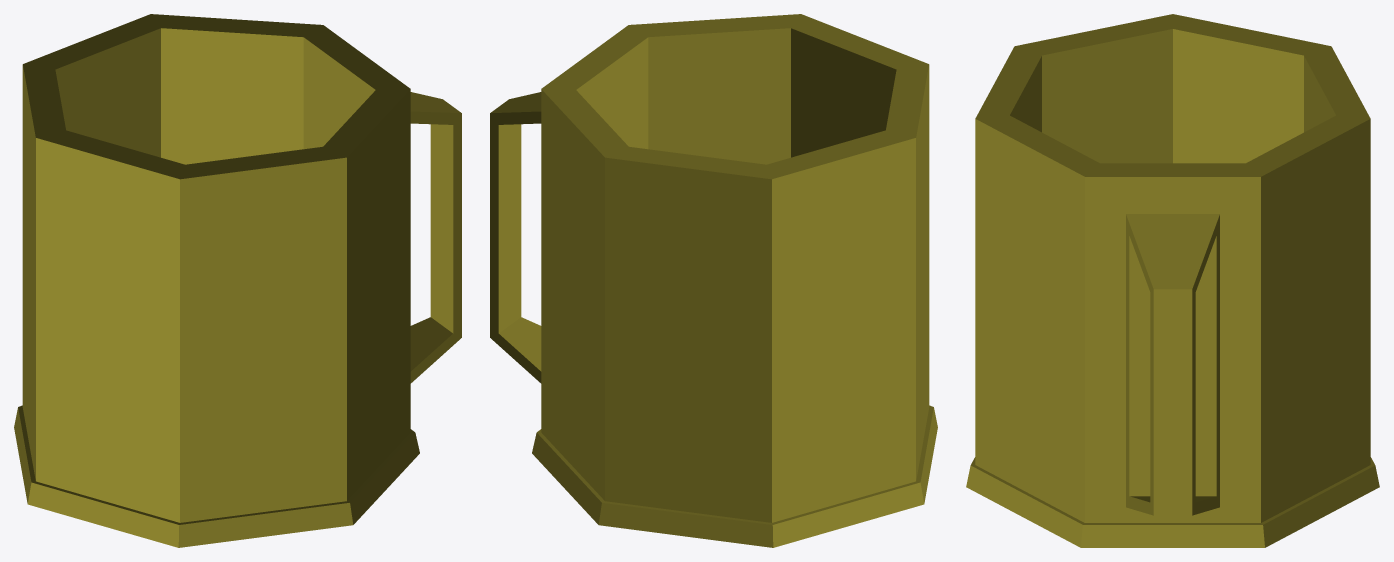
The model's file is Mug 1.fbx.
The picture shows the model from 3 angles, left to right: view 1: azimuth 30°, elevation 25°; view 2: azimuth 150°, elevation 25°; view 3: azimuth 270°, elevation 25°; orthographic projection.
Parts seen in each view (by area): view 1: Node 0; view 2: Node 0; view 3: Node 0.
Boxes of the visible parts, box(x1,y1,x2,y2) form: Node 0: box(14, 14, 461, 547); Node 0: box(490, 14, 937, 547); Node 0: box(966, 14, 1379, 547).
Size of the model in its own units: 0.176 by 0.1725 by 0.2102.
